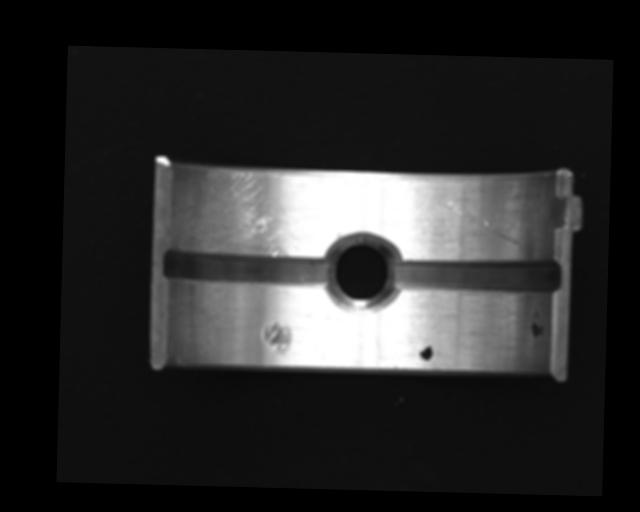blot: (530, 308, 545, 339), (418, 340, 432, 361)
bruise: (261, 321, 291, 358)
gap: (391, 256, 563, 298), (162, 247, 337, 288)
hole: (324, 229, 404, 314)
nick: (444, 200, 523, 246)
scratch: (178, 166, 330, 258)
